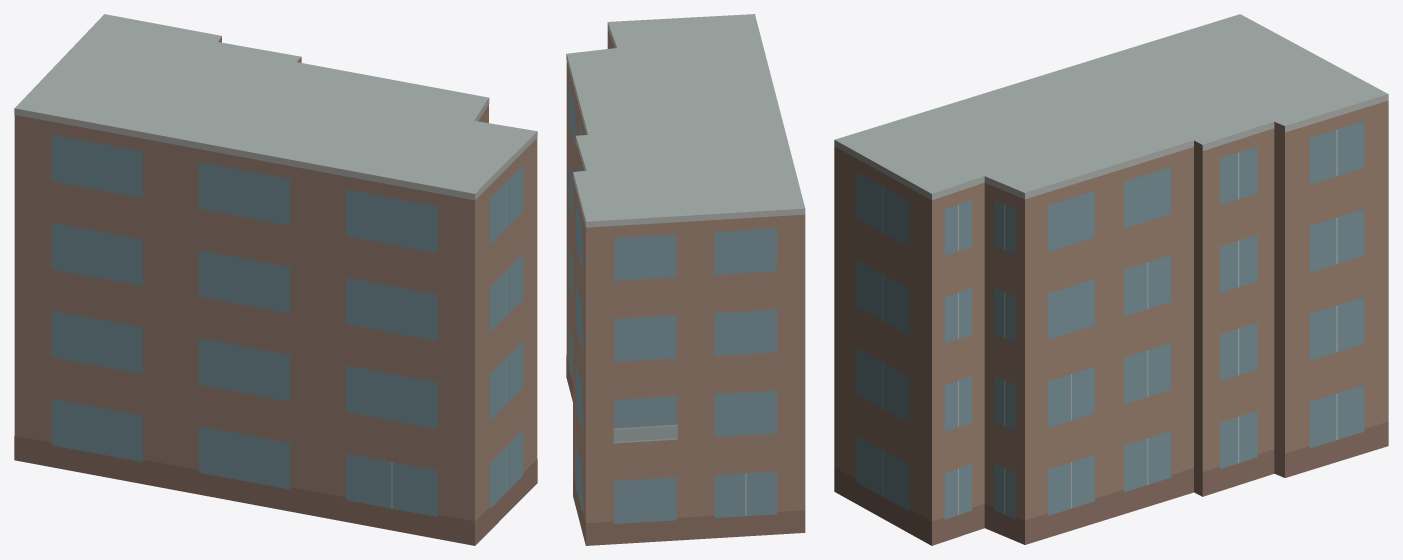
File: survey-upis-32784619.glb
3 views of the same model, side by side, from view 1: azimuth 30°, elevation 25°; view 2: azimuth 150°, elevation 25°; view 3: azimuth 270°, elevation 25° (orthographic). The views are drawn at different scales.
Visible parts, largest first — view 1: survey-upis-32784619.tmp; view 2: survey-upis-32784619.tmp; view 3: survey-upis-32784619.tmp.
Boxes of the visible parts, box(x1,y1,x2,y2) form: survey-upis-32784619.tmp: box(14, 14, 537, 545); survey-upis-32784619.tmp: box(566, 14, 805, 545); survey-upis-32784619.tmp: box(834, 14, 1388, 545).
Size of the model in its own units: 14.65 by 13.35 by 19.06.
